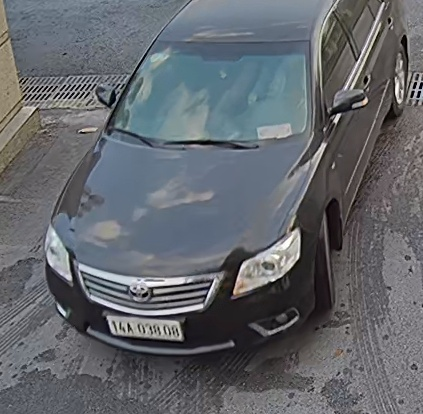vehicle plate: (105, 310, 192, 347)
